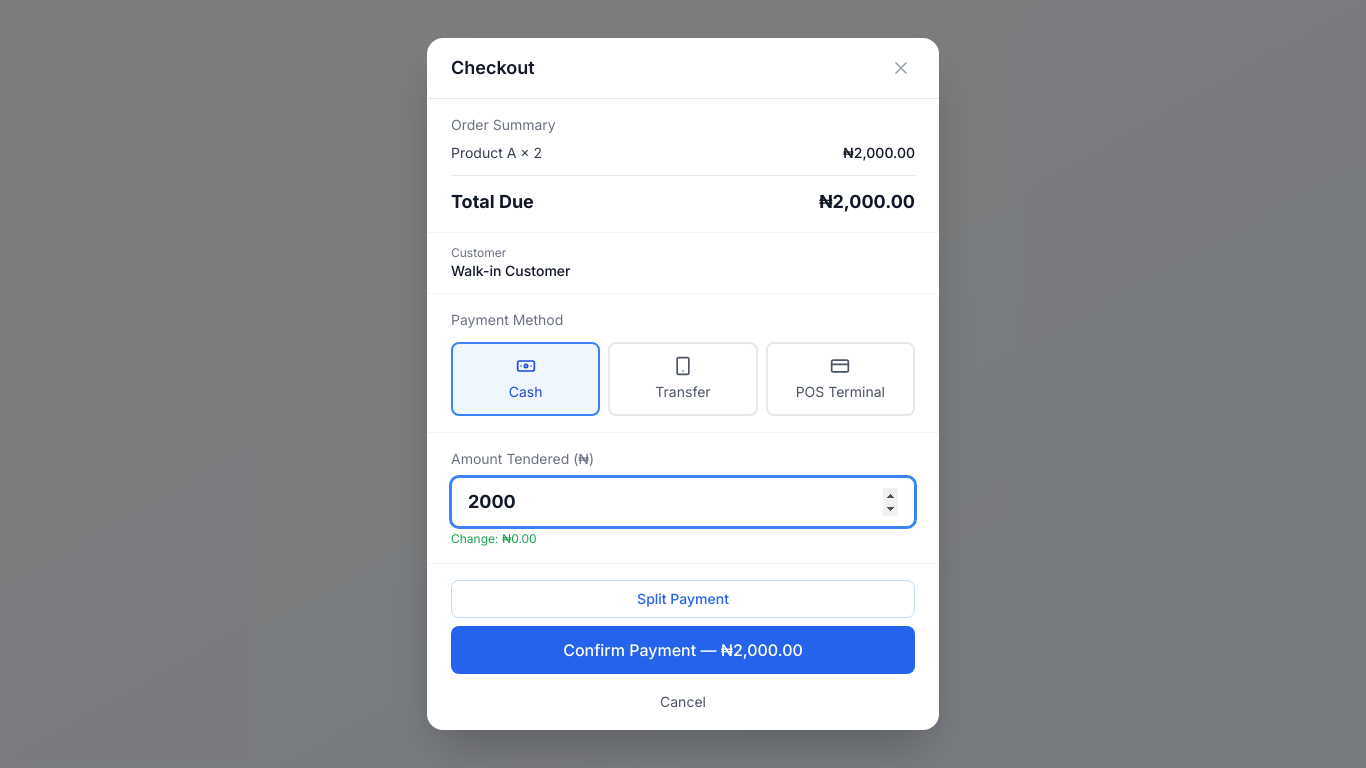
it: CheckoutModal › warns when amount tendered is less than total
Replace the text in the number field with "1500" at (683, 502), box [451,477,915,527]
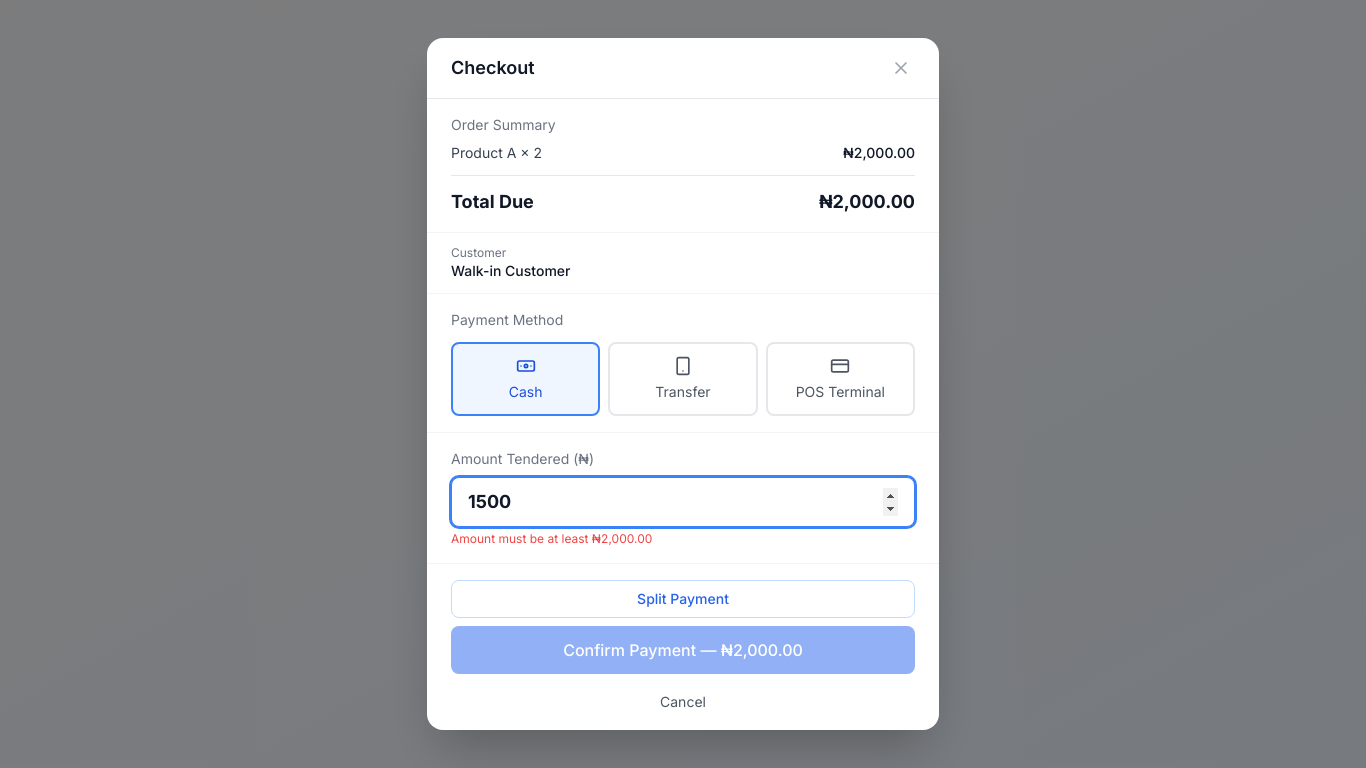
Expected: the text "Amount must be at least ₦2,000.00" is shown, [451,531,652,546]
